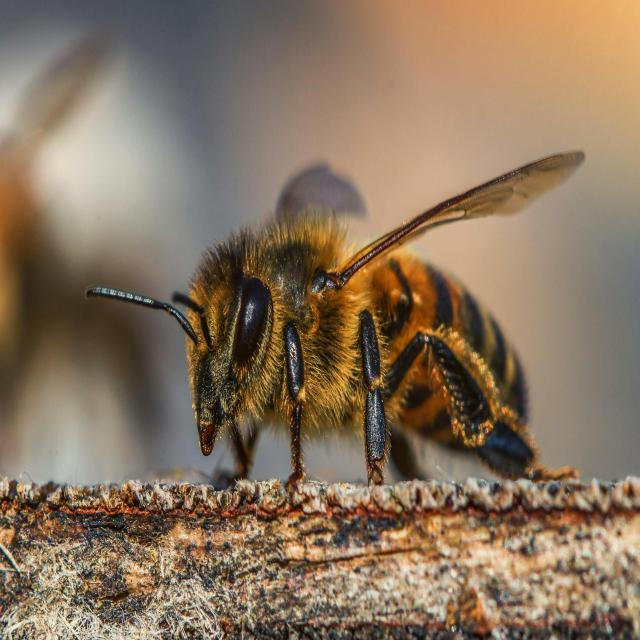bee: (84, 148, 596, 484)
